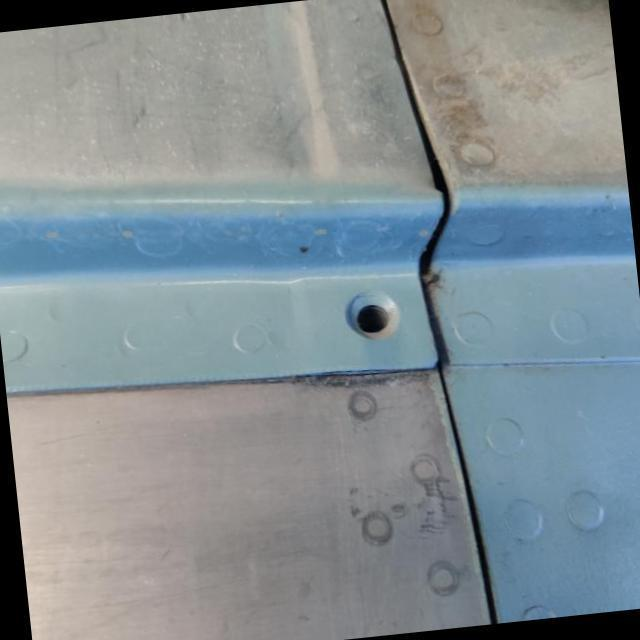Fastener Damage: (312, 264, 436, 371)
